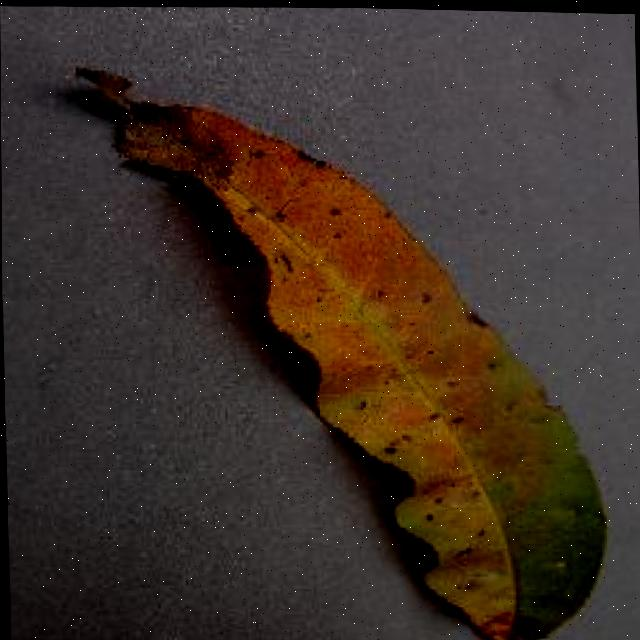Bacterial_spot: (414, 470, 485, 531), (369, 426, 419, 469), (339, 388, 382, 423), (391, 338, 443, 365), (415, 399, 453, 432), (270, 241, 300, 281), (363, 276, 397, 311), (265, 194, 296, 228), (414, 276, 439, 315), (316, 194, 349, 223), (476, 350, 507, 380), (434, 369, 466, 397), (444, 408, 473, 430), (322, 228, 351, 247)
